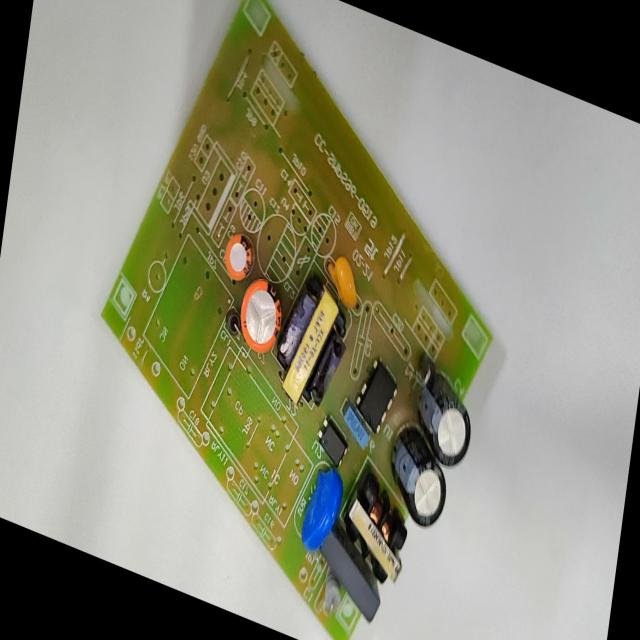Cap1: (235, 270, 288, 362)
Cap2: (220, 229, 256, 287)
Cap3: (379, 439, 456, 542)
Cap4: (407, 367, 478, 472)
MOSFET: (351, 347, 403, 445)
Mov: (297, 452, 348, 559)
Resistor: (318, 566, 347, 626)
Transformer: (270, 272, 351, 421), (333, 469, 413, 595)
